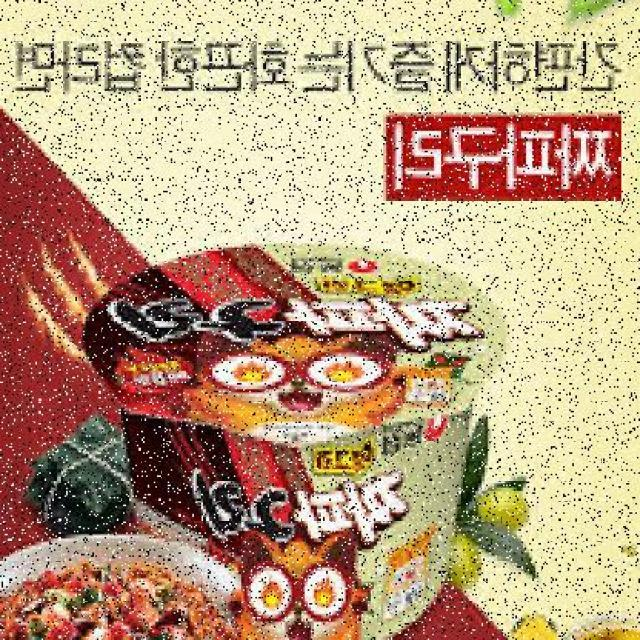Miscellaneous: (95, 243, 508, 640)
